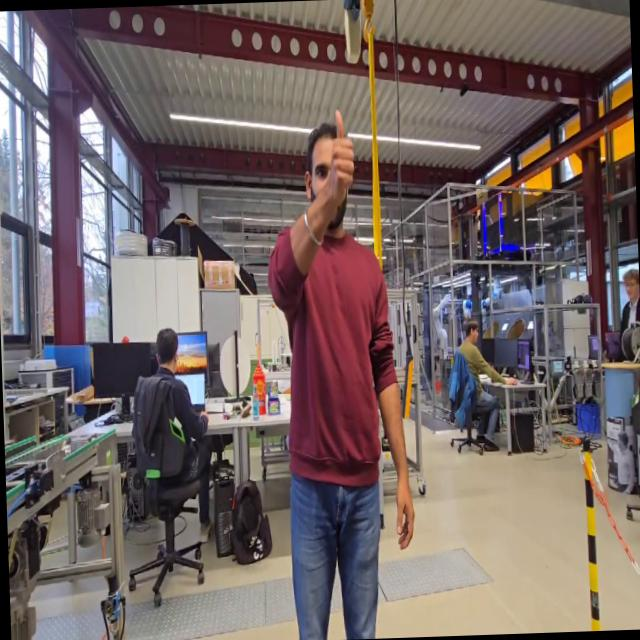thumbs_up: (326, 105, 362, 210)
